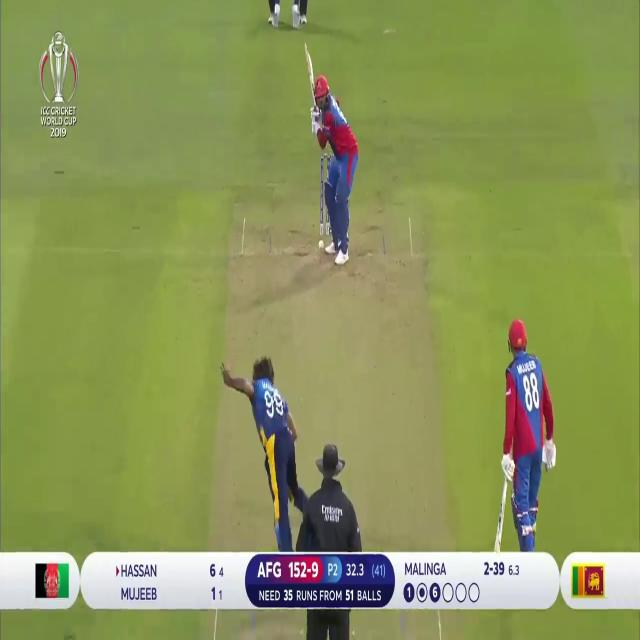ball: (315, 235, 325, 257)
